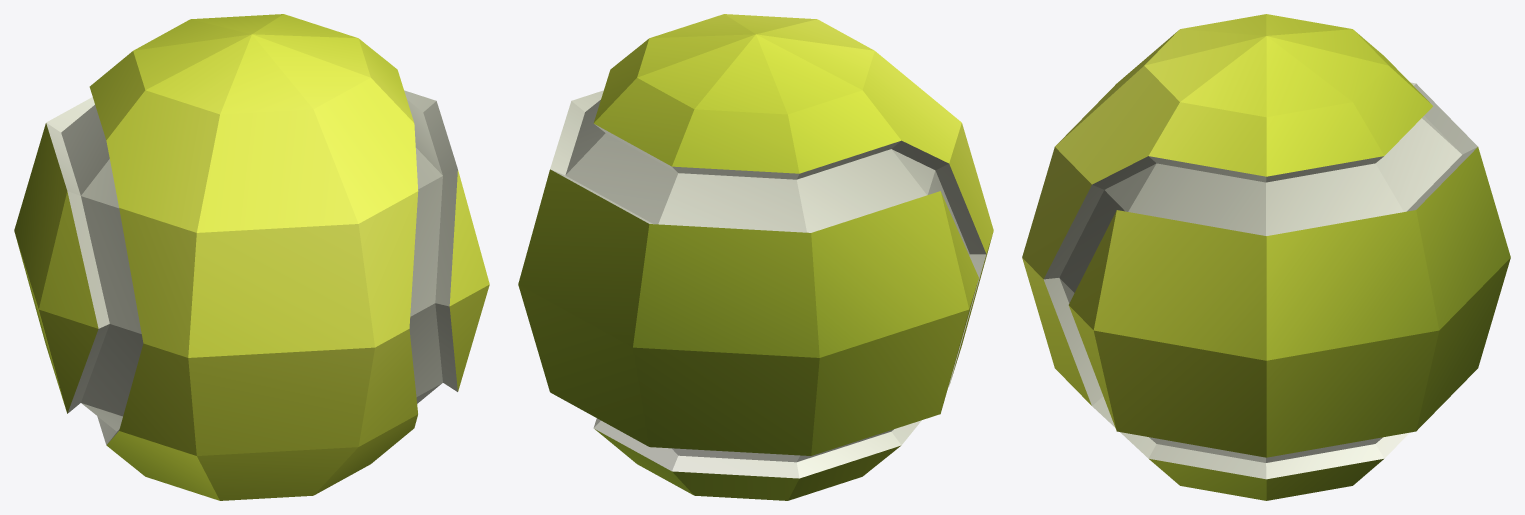
File: Limb_Joint_TennisBall.fbx
3 renders of one model, left to right at view 1: azimuth 30°, elevation 25°; view 2: azimuth 150°, elevation 25°; view 3: azimuth 270°, elevation 25°, orthographic.
Visible parts, largest first — view 1: pSphere2; view 2: pSphere2; view 3: pSphere2.
Boxes of the visible parts, x1=… form: pSphere2: x1=14, y1=14, x2=489, y2=500; pSphere2: x1=518, y1=14, x2=993, y2=500; pSphere2: x1=1022, y1=14, x2=1510, y2=500.
Bounding box in the file's own units: 0.3825 × 0.3825 × 0.3825.
